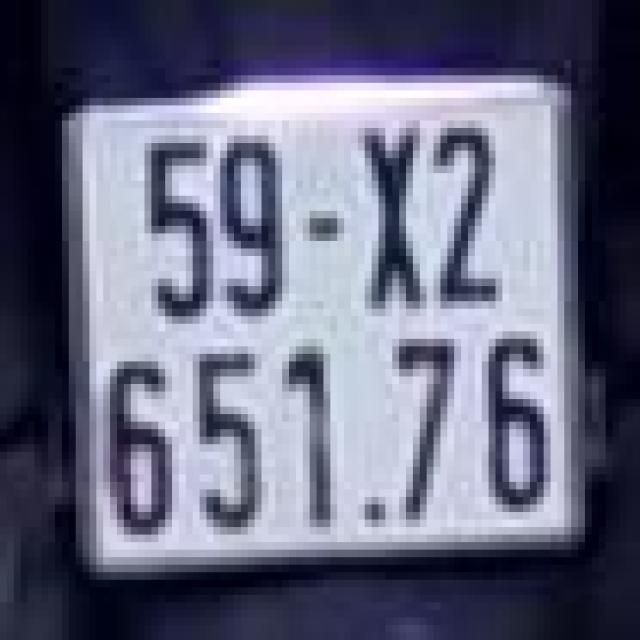1: (282, 331, 358, 535)
2: (427, 113, 530, 316)
5: (134, 128, 217, 331), (189, 339, 272, 542)
6: (86, 342, 182, 546), (478, 328, 561, 524)
7: (378, 323, 468, 534)
9: (220, 136, 296, 316)
X: (354, 116, 424, 312)
